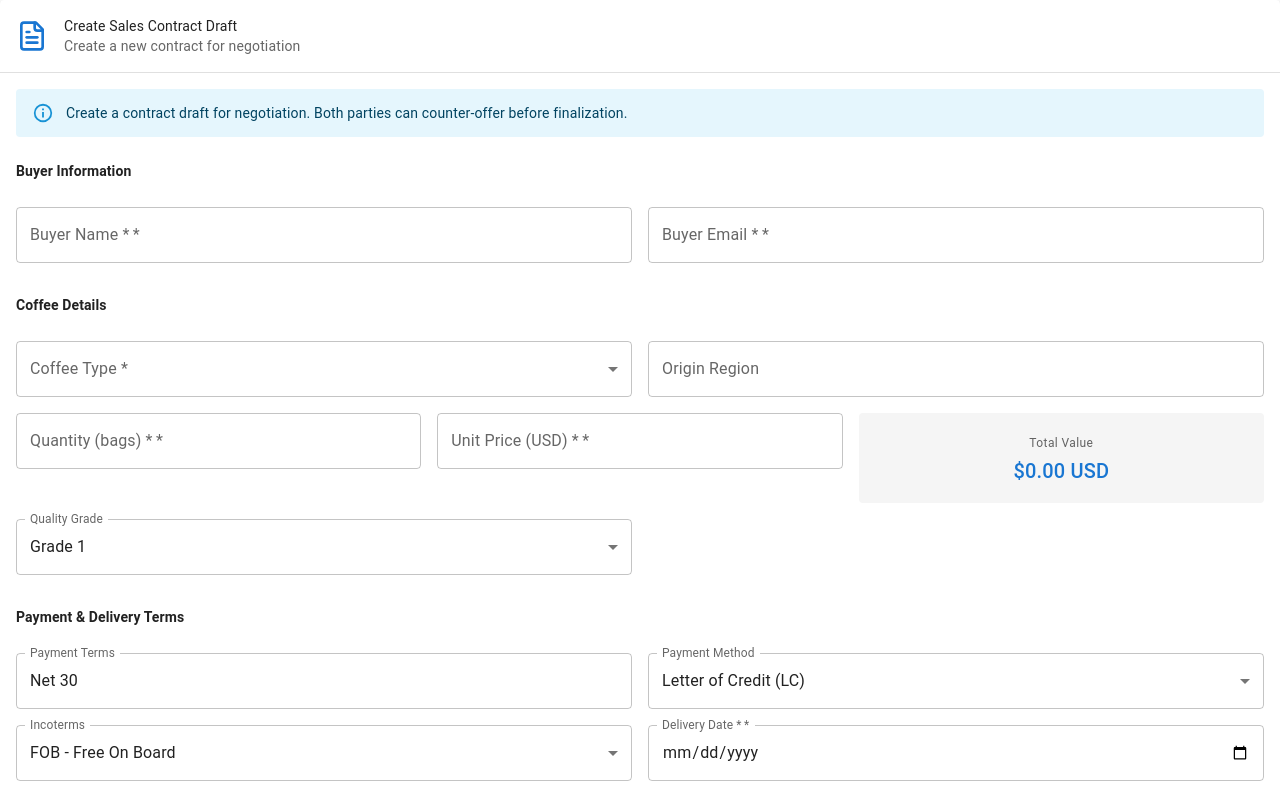
Test: SalesContractDraftForm Component › Form Field Validation › should show error for invalid quantity (zero)
The image size is (1280, 790).
Type "0" into the number field labelled "Quantity (bags) * *" at (219, 441), box [16,413,421,469]
(page scrolled)
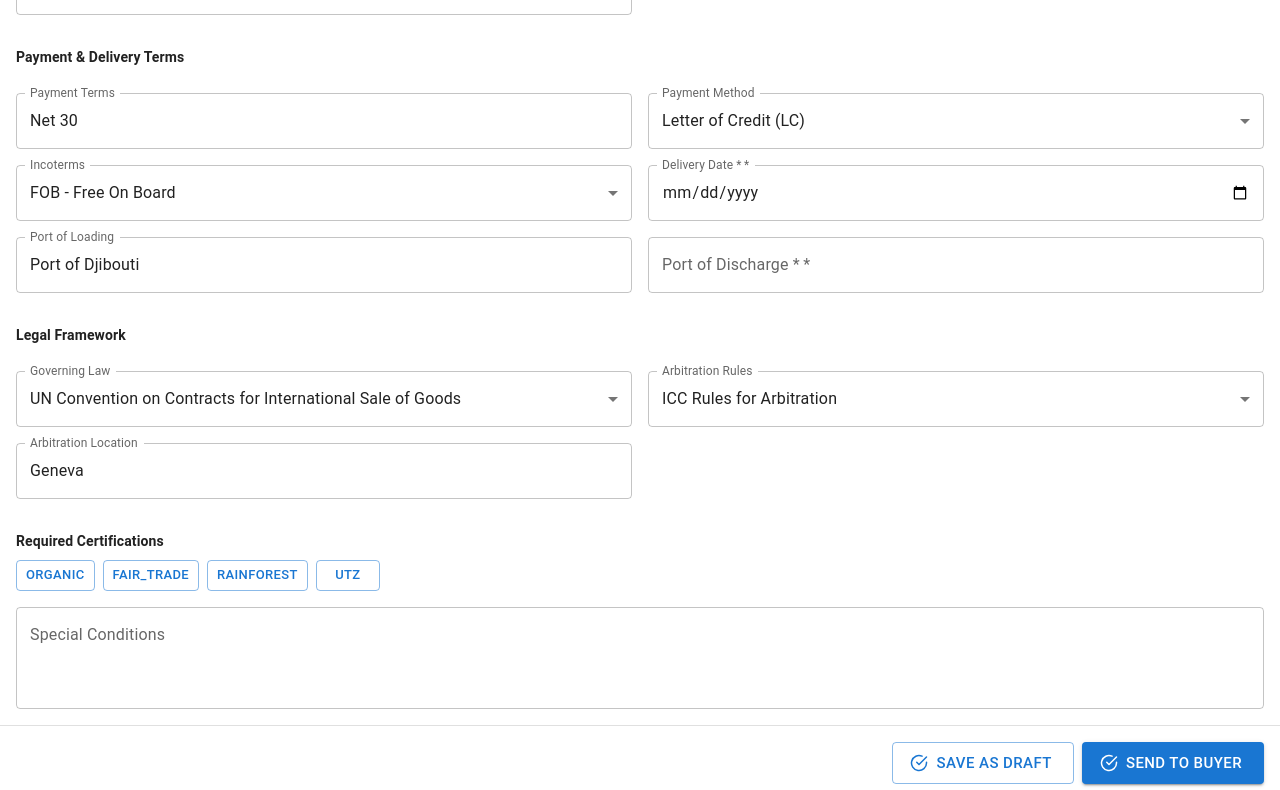
Click the button "Save as Draft" at (983, 763), box [892,742,1074,784]
(page scrolled)
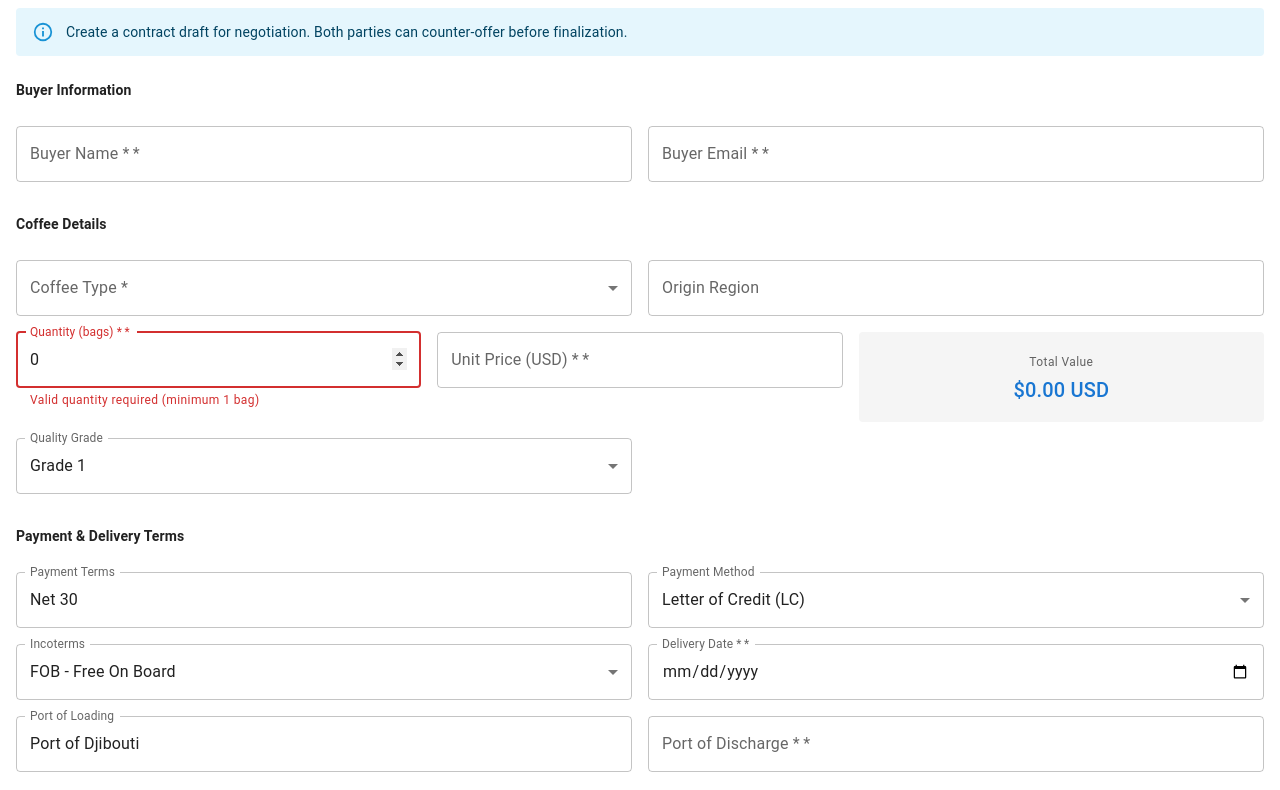
Result: the text "Valid quantity required (minimum 1 bag)" is shown at [30,393,260,407]
